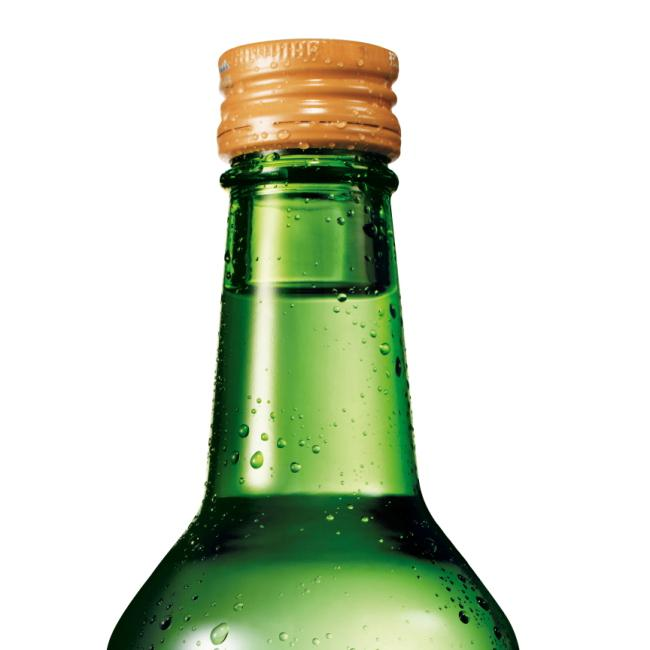soju: (104, 37, 530, 650)
